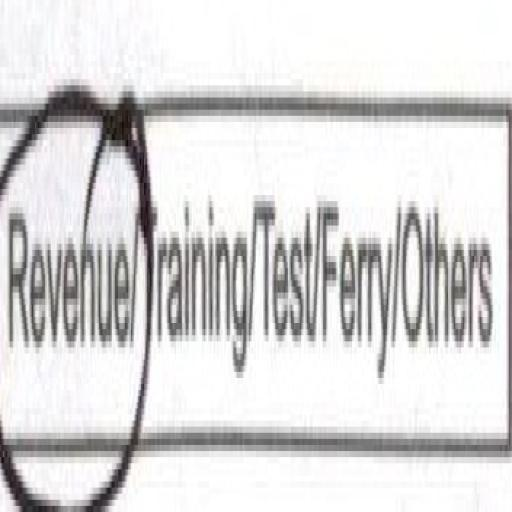check: (0, 27, 144, 512)
